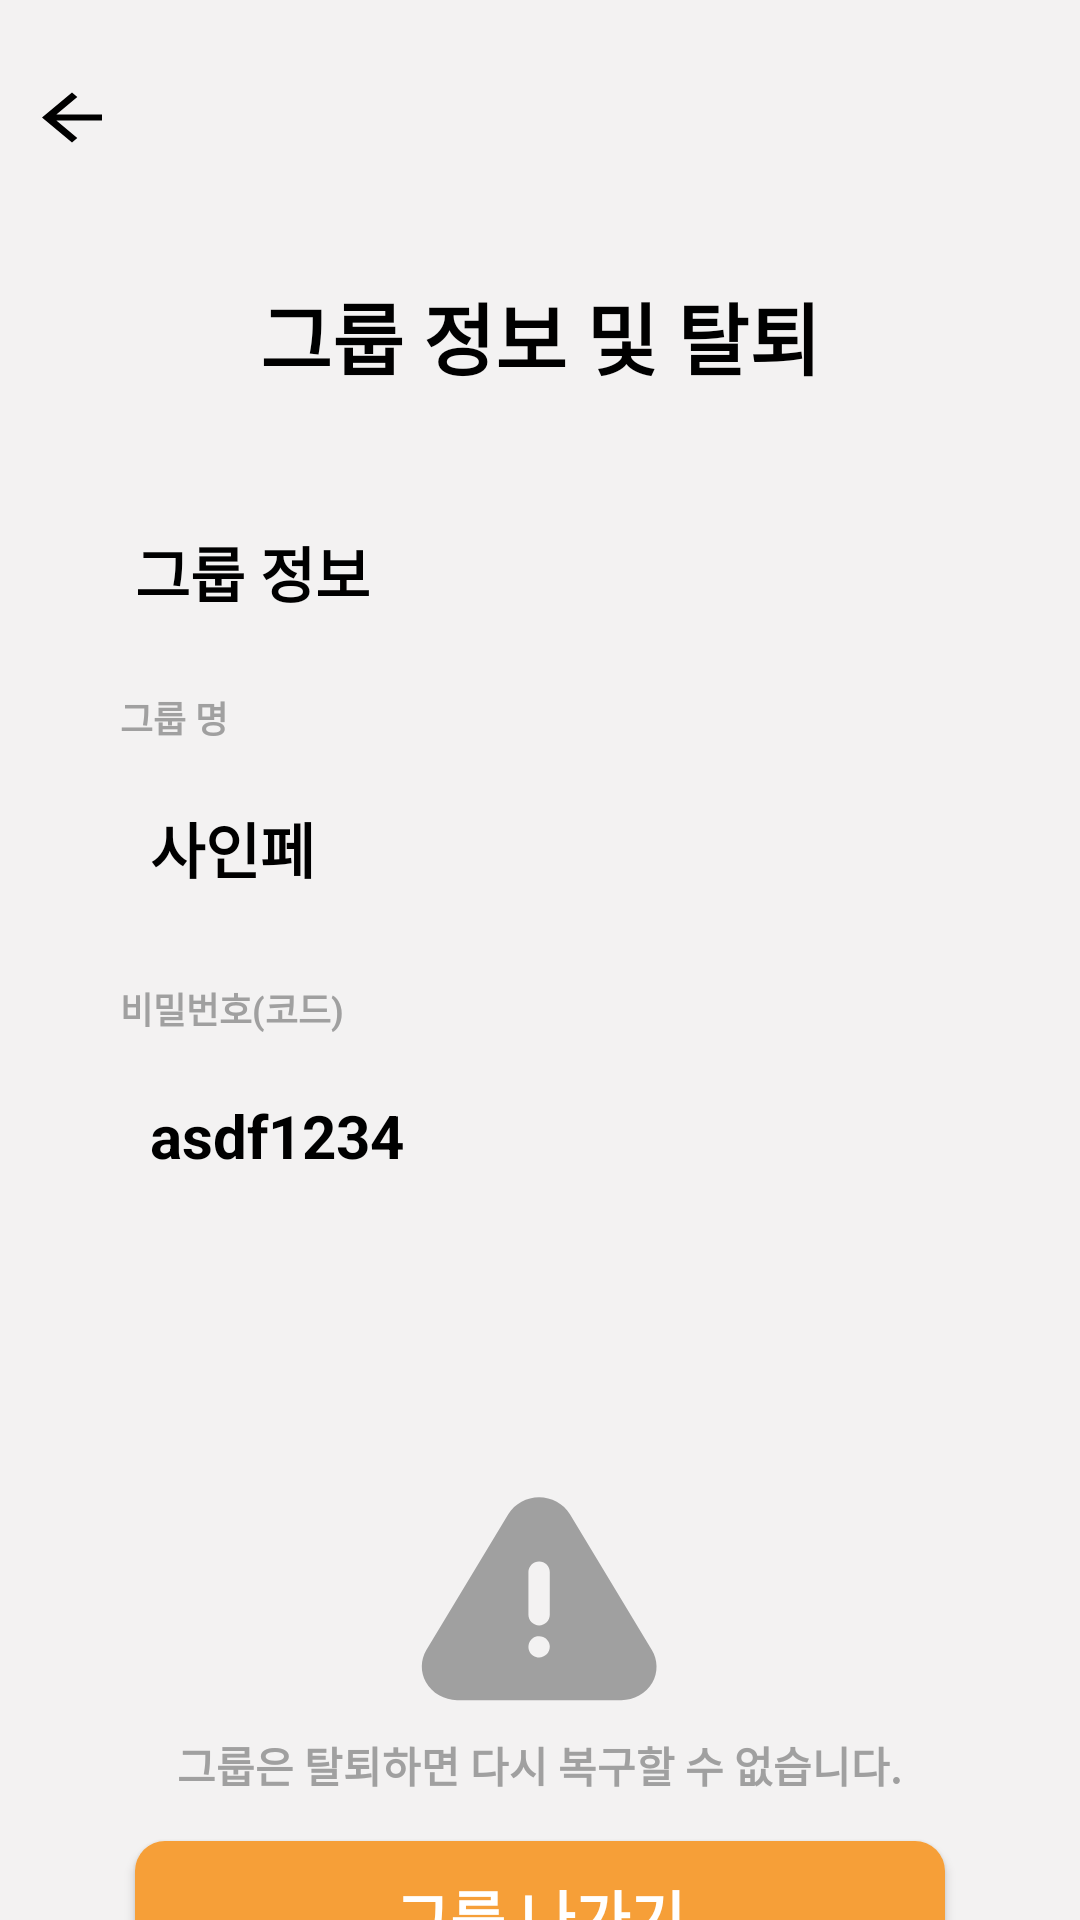

Locate icon controls on the screen. Image size 1080px x 1920px, boxes as (x1, y1, x2, y2).
alert: (422, 1497, 657, 1700)
arrow back: (42, 92, 102, 143)
